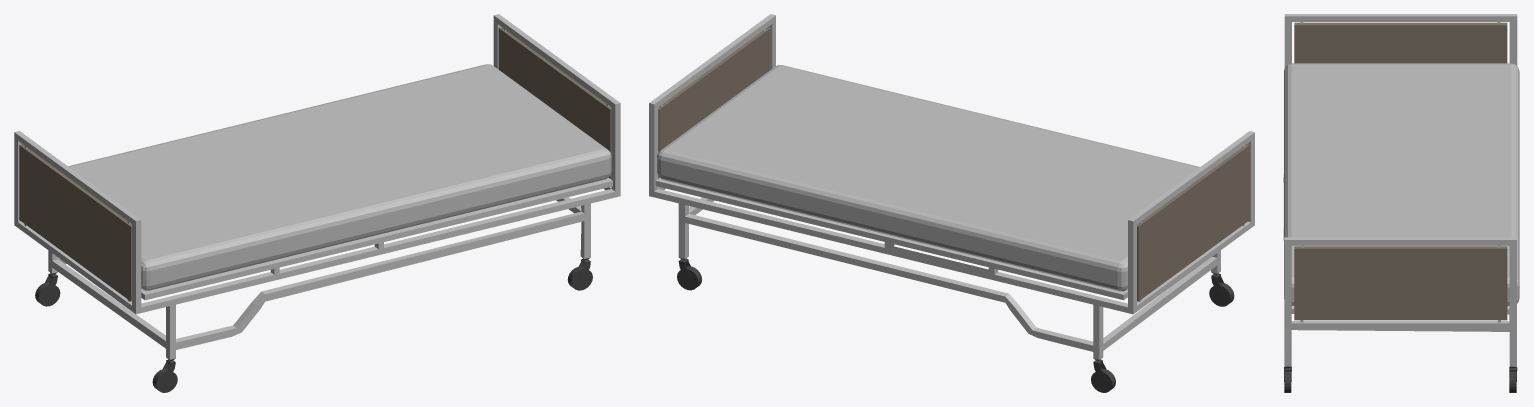
Rendered from Flat-Bed.fbx.
3 renders of one model, left to right at view 1: azimuth 30°, elevation 25°; view 2: azimuth 150°, elevation 25°; view 3: azimuth 270°, elevation 25°, orthographic. The views are drawn at different scales.
Visible parts, largest first — view 1: Flat_Bed; view 2: Flat_Bed; view 3: Flat_Bed.
Part boxes in pixels (x1,y1,x2,y2): Flat_Bed: (14,14,620,392); Flat_Bed: (649,14,1254,392); Flat_Bed: (1283,14,1519,392).
Size of the model in its own units: 4.64 by 1.64 by 2.05.
